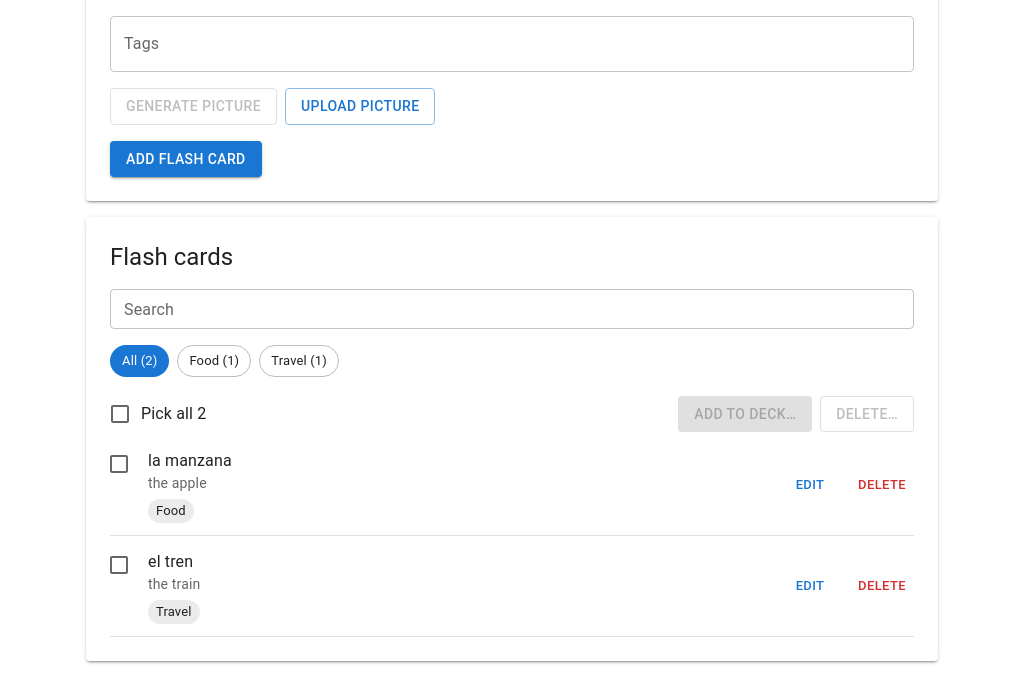
Scenario: tags › finds cards by either side as the search is typed, within the picked tag
(page scrolled)
Type "TREN" into the search field labelled "Search". click: point(512, 309)
box: [110,289,914,329]
(page scrolled)
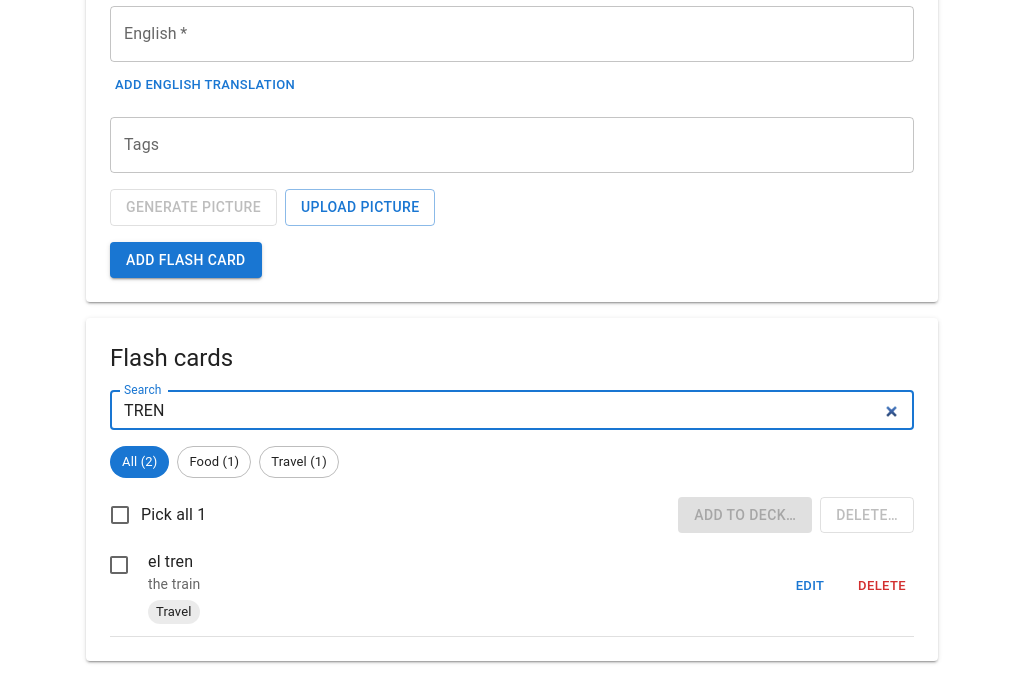
Expected: the number of list items is 1, [110,536,914,637]
Expected: the text "el tren" is shown, [148,552,193,571]
Clear the search field labelled "Search". click: point(512, 410)
box: [110,390,914,430]
(page scrolled)
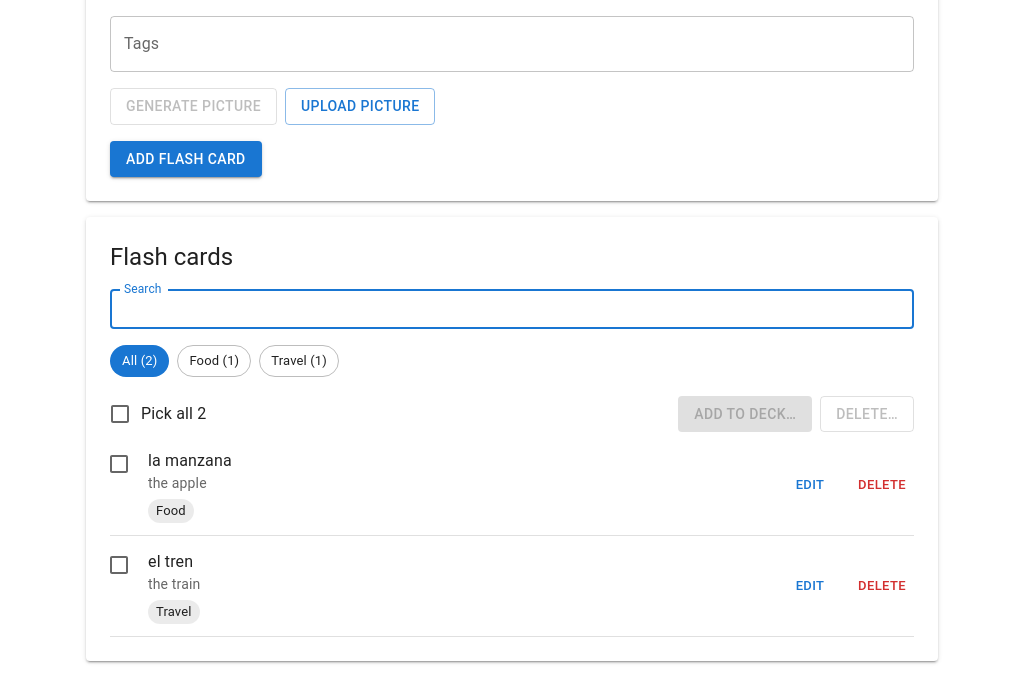
Type "the apple" into the search field labelled "Search". click: point(512, 309)
box: [110,289,914,329]
(page scrolled)
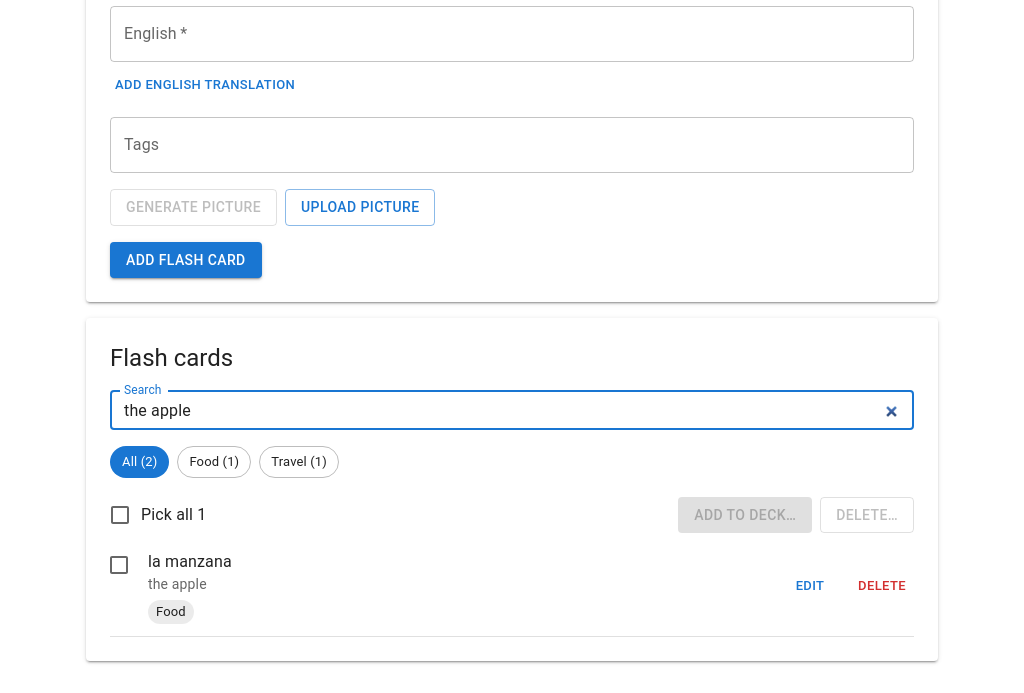
Expected: the text "la manzana" is shown, [148,552,232,571]
Expected: the number of list items is 1, [110,536,914,637]
Click the button "Travel (1)". click: point(299, 462)
box: [259,446,339,478]
(page scrolled)
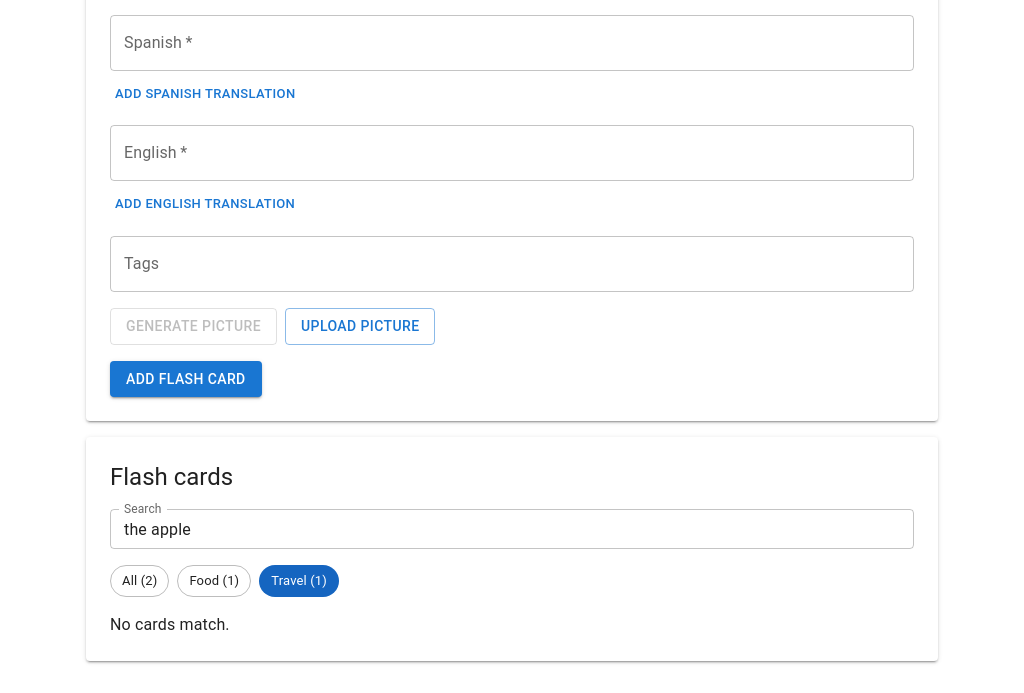
Expected: no list items are shown
Expected: the text "No cards match." is shown, [110,615,230,634]
